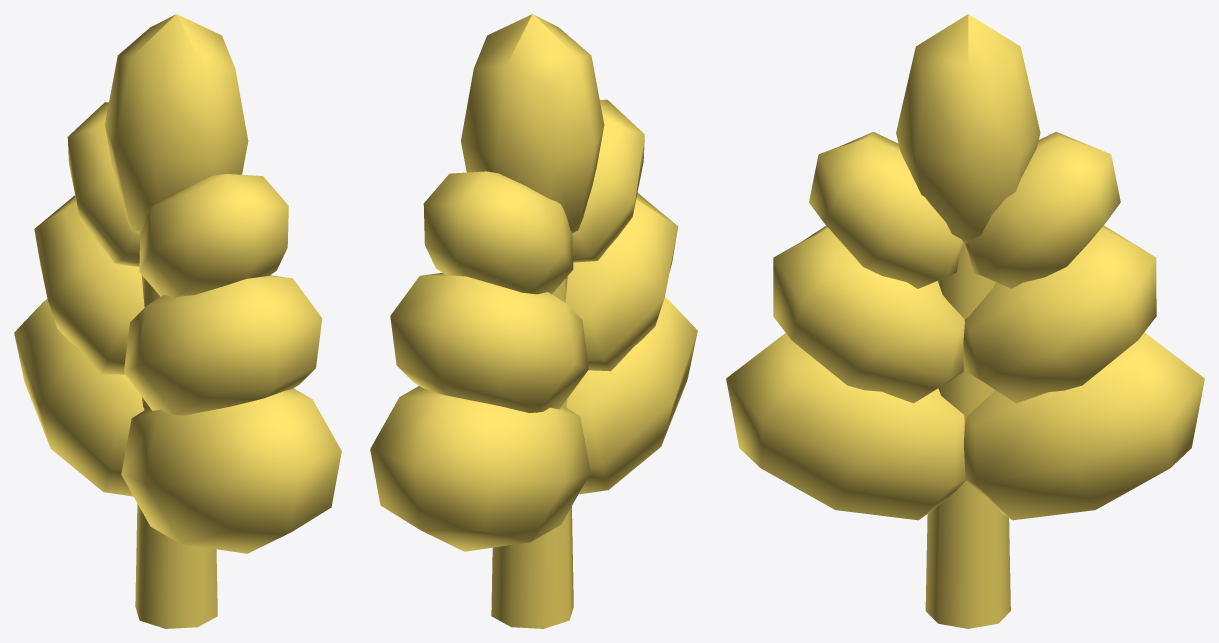
Rendered from Wheat.fbx.
The picture shows the model from 3 angles, left to right: view 1: azimuth 30°, elevation 25°; view 2: azimuth 150°, elevation 25°; view 3: azimuth 270°, elevation 25°; orthographic projection.
Parts seen in each view (by area): view 1: Wheat; view 2: Wheat; view 3: Wheat.
Boxes of the visible parts, x1,y1,x2,y2 form: Wheat: [14, 14, 341, 628]; Wheat: [370, 14, 697, 628]; Wheat: [726, 14, 1204, 628].
Bounding box in the file's own units: 39.37 × 131 × 95.45.
